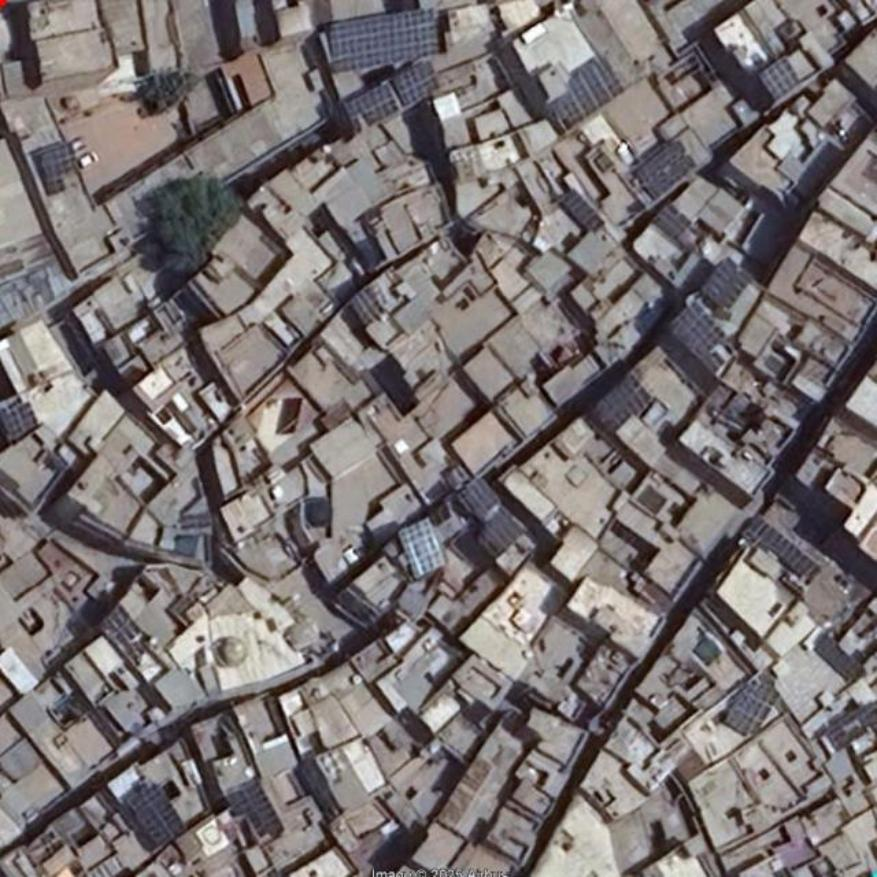Solarpanel: (328, 8, 443, 72), (545, 55, 623, 127), (744, 517, 815, 574), (635, 140, 695, 202), (129, 784, 188, 847), (596, 373, 652, 435), (228, 783, 282, 844), (669, 300, 724, 359), (728, 681, 782, 736), (399, 517, 447, 578), (703, 257, 752, 311), (392, 61, 438, 109), (560, 189, 606, 237), (356, 83, 402, 125), (756, 55, 799, 97), (650, 202, 693, 240), (42, 140, 83, 179), (0, 402, 37, 443)
